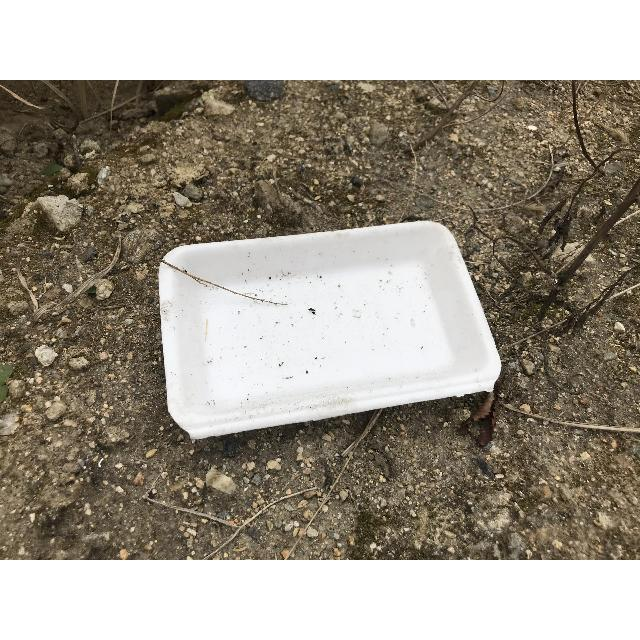Plastico descartable: (157, 221, 502, 442)
